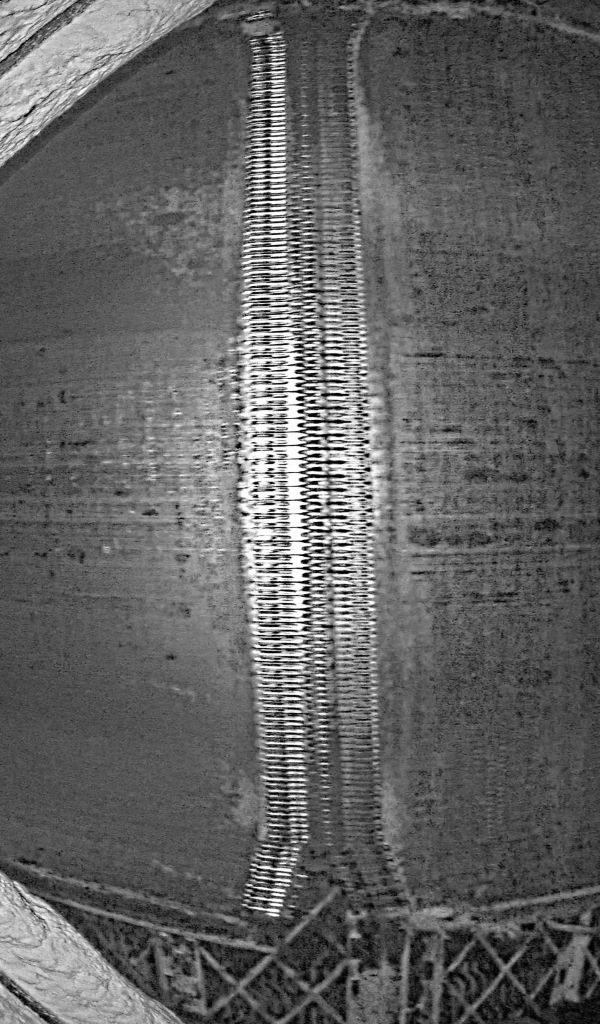damage: (242, 834, 409, 920)
splice: (226, 15, 418, 923)
